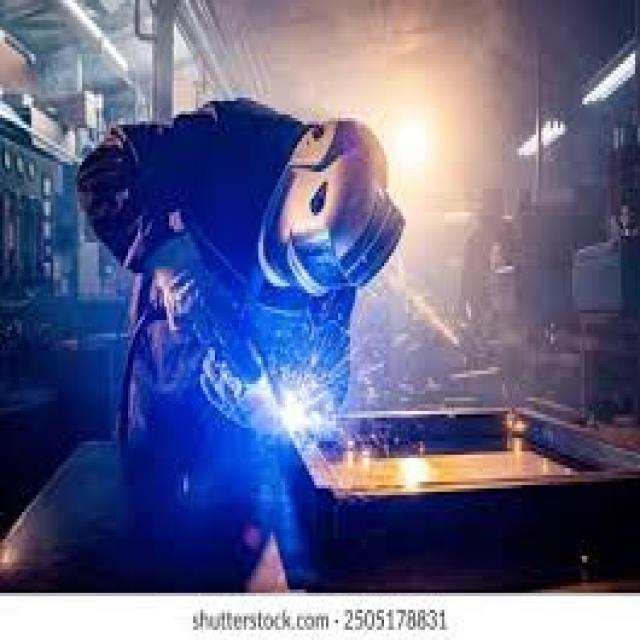welding: (281, 396, 304, 432)
